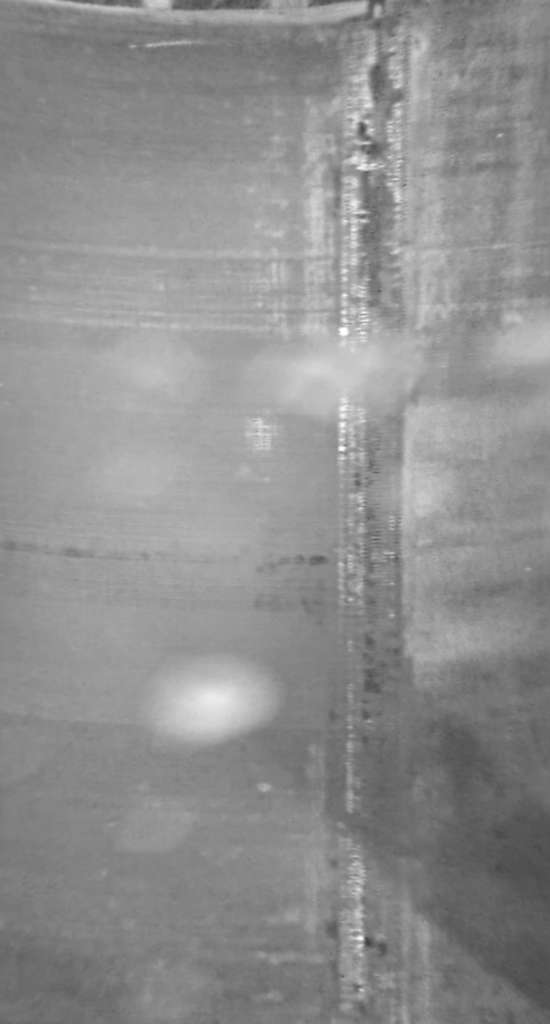splice: (327, 1, 408, 1021)
